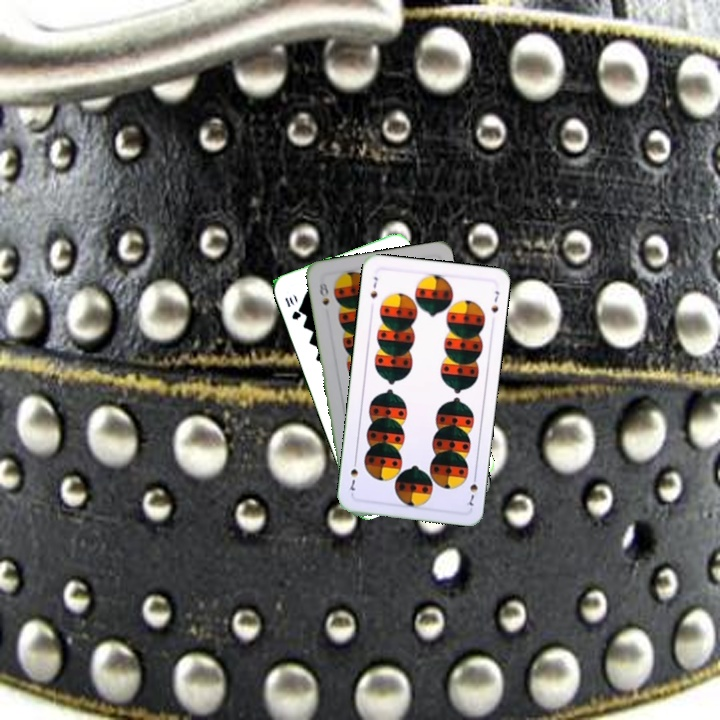G10: (281, 292, 304, 322)
S7: (462, 470, 480, 509), (366, 273, 380, 301)
S8: (315, 277, 332, 308)
